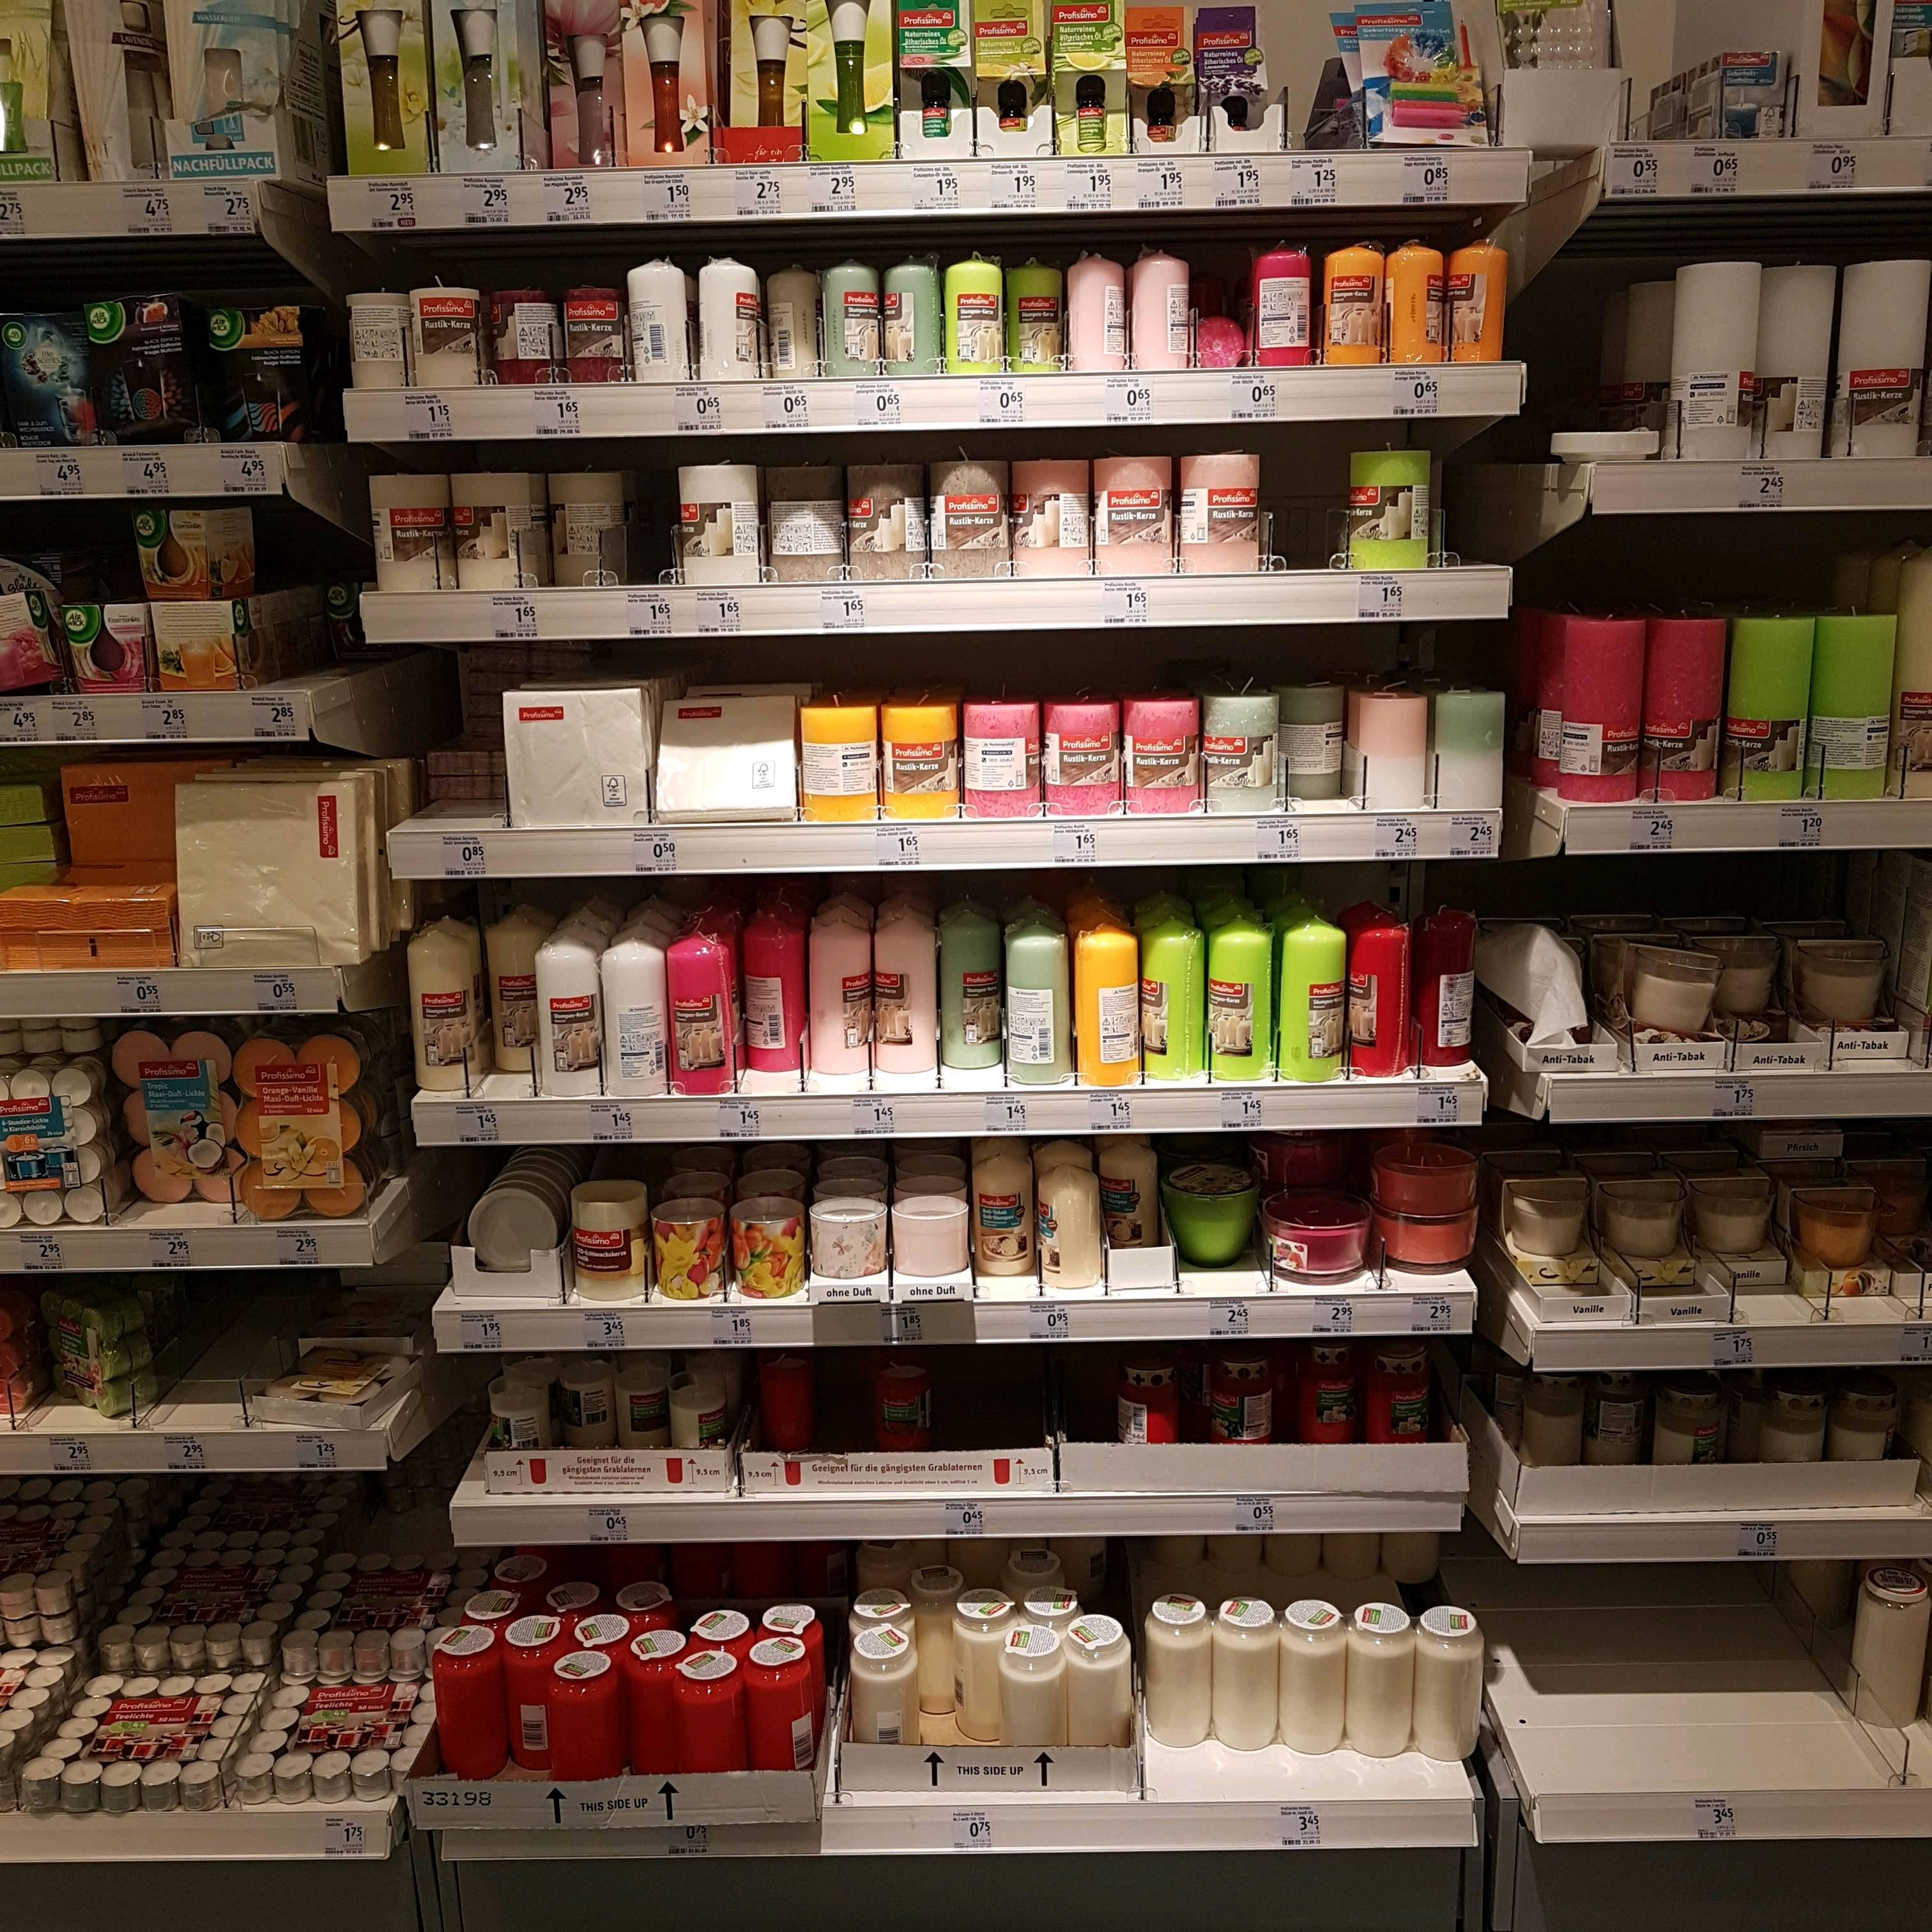empty: (1537, 1573, 1651, 1792), (1746, 1569, 1838, 1790), (1649, 1571, 1741, 1792), (1548, 267, 1660, 433), (409, 649, 501, 832), (1253, 1654, 1355, 1803), (1148, 1656, 1249, 1806), (149, 1295, 241, 1424), (1265, 441, 1348, 573), (1433, 437, 1516, 570)
